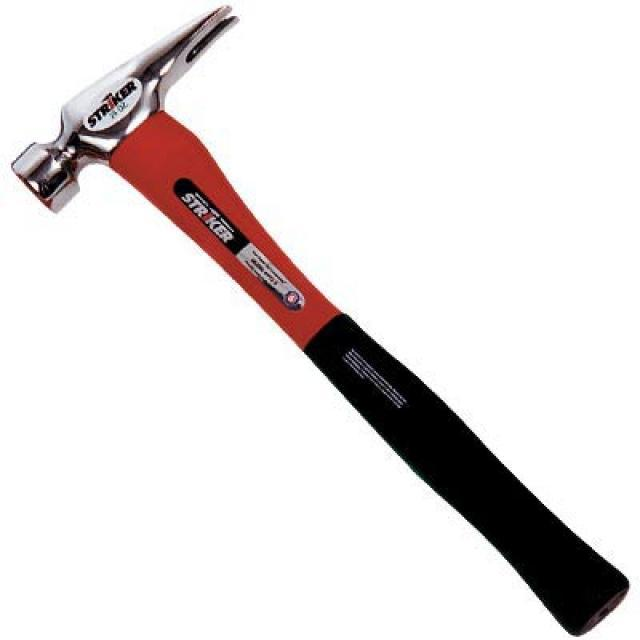hammer: (8, 2, 636, 640)
